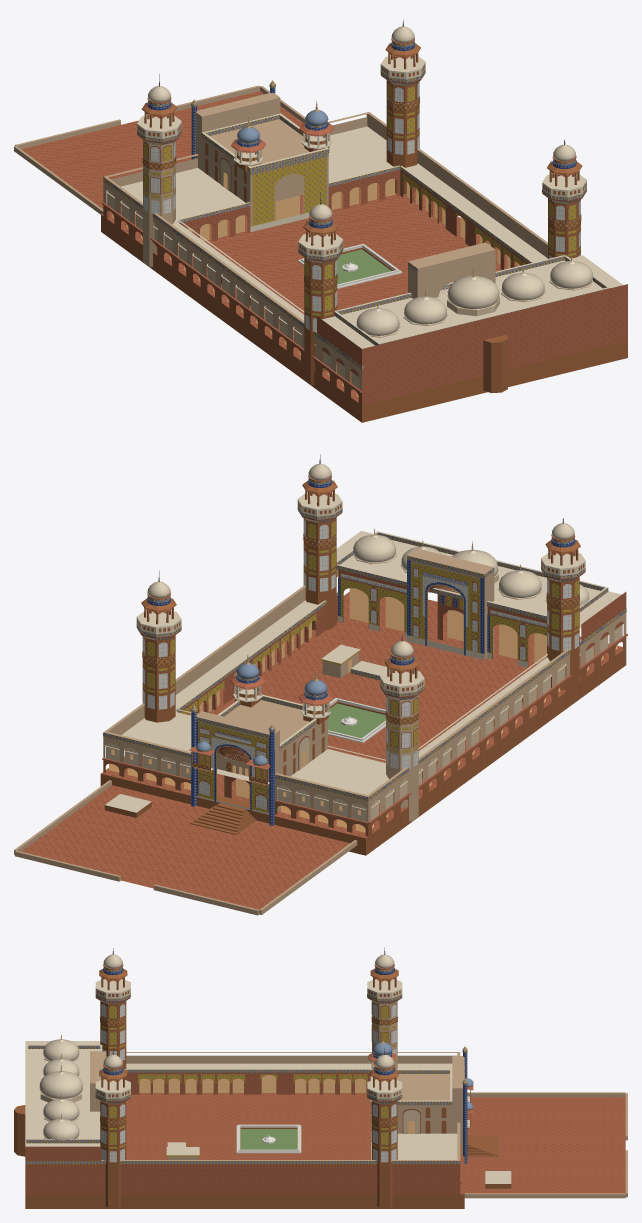
Rendered from wazir_khan_mosque.glb.
3 views of the same model, one above another, from view 1: azimuth 30°, elevation 25°; view 2: azimuth 150°, elevation 25°; view 3: azimuth 270°, elevation 25° (orthographic). The views are drawn at different scales.
Parts seen in each view (by area): view 1: m_brick_floor, m_lime_plaster, m_brick_red, m_parapet_cream, m_brick_warm, m_dome_plaster, m_tile_merlon, m_tile_yellow, m_lime_plaster_light, m_frame_red, m_tile_white, m_dark_recess (+6 smaller); view 2: m_brick_floor, m_lime_plaster, m_brick_warm, m_parapet_cream, m_tile_yellow, m_tile_merlon, m_tile_white, m_lime_plaster_light, m_frame_red, m_dome_plaster, m_dark_recess, m_brick_red (+8 smaller); view 3: m_brick_floor, m_brick_red, m_brick_warm, m_parapet_cream, m_lime_plaster, m_tile_merlon, m_dome_plaster, m_dark_recess, m_tile_yellow, m_tile_white, m_pool_water, m_frame_red (+5 smaller).
Boxes of the visible parts, bbox=[...] form: m_brick_floor: bbox=[21, 91, 517, 402]; m_lime_plaster: bbox=[14, 85, 626, 390]; m_brick_red: bbox=[180, 169, 627, 405]; m_parapet_cream: bbox=[106, 55, 623, 348]; m_brick_warm: bbox=[101, 43, 627, 422]; m_dome_plaster: bbox=[148, 26, 592, 335]; m_tile_merlon: bbox=[103, 41, 610, 369]; m_tile_yellow: bbox=[143, 84, 580, 316]; m_lime_plaster_light: bbox=[107, 159, 592, 388]; m_frame_red: bbox=[106, 82, 580, 417]; m_tile_white: bbox=[143, 82, 580, 331]; m_dark_recess: bbox=[187, 172, 519, 282]; m_brick_floor: bbox=[21, 592, 622, 909]; m_lime_plaster: bbox=[14, 548, 626, 915]; m_brick_warm: bbox=[100, 480, 626, 855]; m_parapet_cream: bbox=[105, 492, 621, 814]; m_tile_yellow: bbox=[143, 521, 578, 812]; m_tile_merlon: bbox=[103, 478, 626, 800]; m_tile_white: bbox=[142, 519, 578, 809]; m_lime_plaster_light: bbox=[106, 554, 622, 821]; m_frame_red: bbox=[104, 519, 623, 848]; m_dome_plaster: bbox=[147, 463, 589, 657]; m_dark_recess: bbox=[111, 588, 546, 815]; m_brick_red: bbox=[178, 570, 626, 778]; m_brick_floor: bbox=[119, 1093, 625, 1194]; m_brick_red: bbox=[25, 1072, 460, 1194]; m_brick_warm: bbox=[14, 969, 511, 1208]; m_parapet_cream: bbox=[25, 979, 511, 1183]; m_lime_plaster: bbox=[90, 1001, 627, 1198]; m_tile_merlon: bbox=[25, 967, 473, 1164]; m_dome_plaster: bbox=[39, 954, 394, 1141]; m_dark_recess: bbox=[139, 1075, 414, 1133]; m_tile_yellow: bbox=[101, 1006, 396, 1156]; m_tile_white: bbox=[101, 1004, 396, 1162]; m_pool_water: bbox=[240, 1129, 297, 1149]; m_frame_red: bbox=[101, 1001, 464, 1145].
Bounding box in the file's own units: 52.58 × 34.11 × 119.
23 materials, 8 textured.
